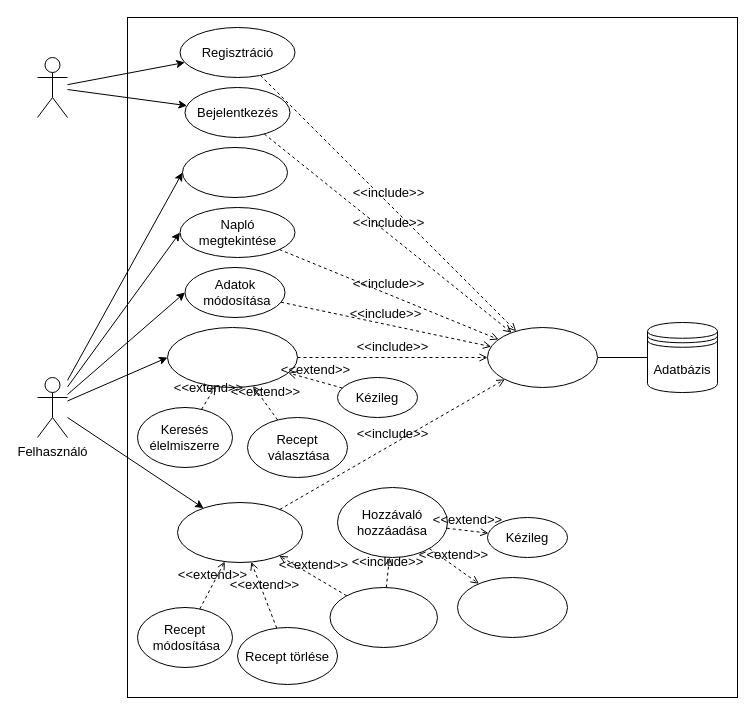
This 755x715 diagram has some shape labels left out. The shapes that lost their labels are listed below. From the top down, each one's box as (x1, y1, x2, y2) in pixels, then its label:
(36, 56, 68, 118): Vendég
(182, 146, 288, 198): Kijelentkezlés
(166, 326, 298, 388): Étkezés rögzítése
(486, 326, 598, 388): Adatbázis kezelése
(176, 502, 302, 562): Recept műveletek
(329, 586, 438, 648): Recept létrehozása
(456, 576, 568, 638): Keresés hozzávalóra
